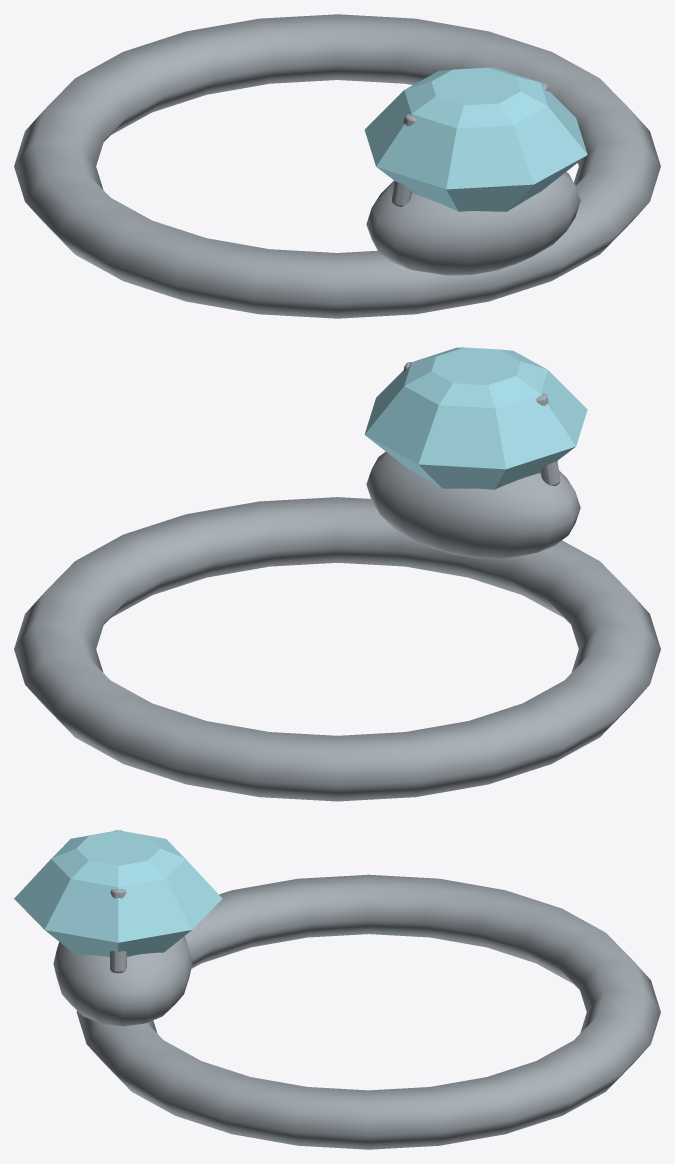
File: silver_ring.glb
The picture shows the model from 3 angles, top to bottom: view 1: azimuth 30°, elevation 25°; view 2: azimuth 150°, elevation 25°; view 3: azimuth 270°, elevation 25°; orthographic projection. The views are drawn at different scales.
Visible parts, largest first — view 1: SM_silver_ring; view 2: SM_silver_ring; view 3: SM_silver_ring.
Boxes of the visible parts, left/top/right/bottom form: SM_silver_ring: left=14, top=14, right=660, bottom=318; SM_silver_ring: left=14, top=347, right=660, bottom=801; SM_silver_ring: left=14, top=830, right=660, bottom=1149.
Bounding box in the file's own units: 0.252 × 0.0884 × 0.279.
